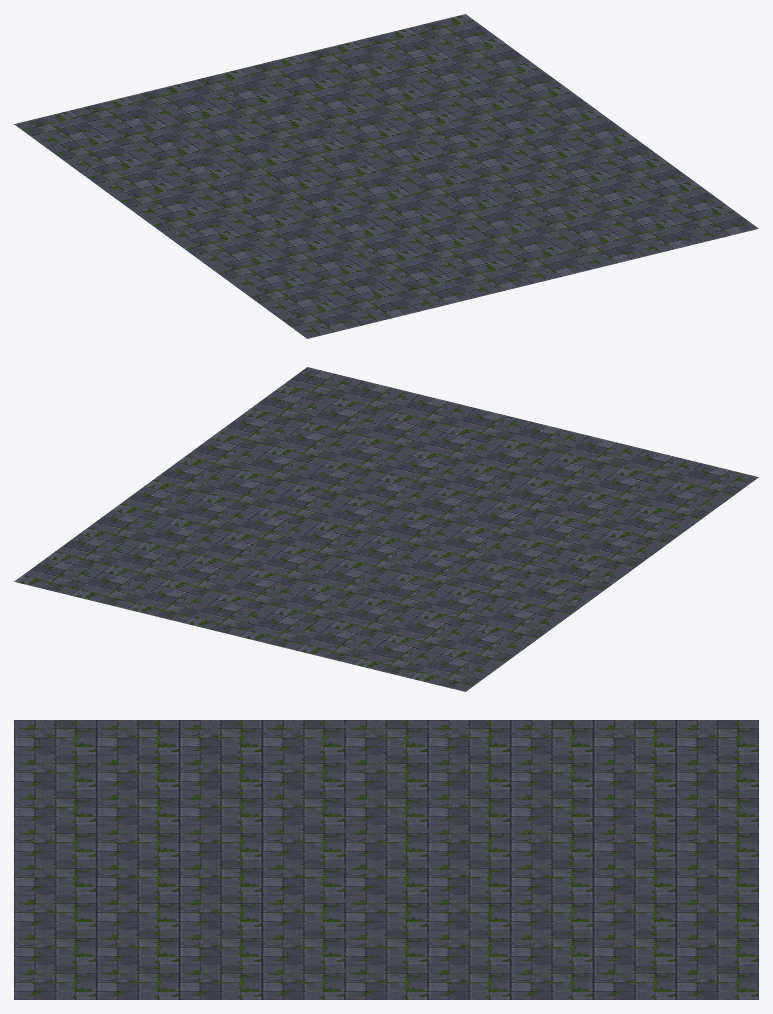
The model's file is Floor.gltf.
3 renders of one model, top to bottom at view 1: azimuth 30°, elevation 25°; view 2: azimuth 150°, elevation 25°; view 3: azimuth 270°, elevation 25°, orthographic. The views are drawn at different scales.
Visible parts, largest first — view 1: P_MOD_Floor_01_O_straight_med (19), P_MOD_Floor_01_O_straight_med (52), P_MOD_Floor_01_O_straight_med (25), P_MOD_Floor_01_O_straight_med (46), P_MOD_Floor_01_O_straight_med, P_MOD_Floor_01_O_straight_med (8), P_MOD_Floor_01_O_straight_med (11), P_MOD_Floor_01_O_straight_med (22), P_MOD_Floor_01_O_straight_med (24), P_MOD_Floor_01_O_straight_med (47), P_MOD_Floor_01_O_straight_med (59), P_MOD_Floor_01_O_straight_med (56) (+60 smaller); view 2: P_MOD_Floor_01_O_straight_med (20), P_MOD_Floor_01_O_straight_med (51), P_MOD_Floor_01_O_straight_med (30), P_MOD_Floor_01_O_straight_med (41), P_MOD_Floor_01_O_straight_med (12), P_MOD_Floor_01_O_straight_med (31), P_MOD_Floor_01_O_straight_med (54), P_MOD_Floor_01_O_straight_med (63), P_MOD_Floor_01_O_straight_med (60), P_MOD_Floor_01_O_straight_med (68), P_MOD_Floor_01_O_straight_med (64), P_MOD_Floor_01_O_straight_med (40) (+60 smaller); view 3: P_MOD_Floor_01_O_straight_med (8), P_MOD_Floor_01_O_straight_med (9), P_MOD_Floor_01_O_straight_med (10), P_MOD_Floor_01_O_straight_med (11), P_MOD_Floor_01_O_straight_med (12), P_MOD_Floor_01_O_straight_med (23), P_MOD_Floor_01_O_straight_med (22), P_MOD_Floor_01_O_straight_med (21), P_MOD_Floor_01_O_straight_med (20), P_MOD_Floor_01_O_straight_med (19), P_MOD_Floor_01_O_straight_med (18), P_MOD_Floor_01_O_straight_med (55) (+60 smaller).
Boxes of the visible parts, left/top/right/bottom form: P_MOD_Floor_01_O_straight_med (19): left=379, top=212, right=467, bottom=249; P_MOD_Floor_01_O_straight_med (52): left=305, top=103, right=393, bottom=140; P_MOD_Floor_01_O_straight_med (25): left=516, top=147, right=604, bottom=184; P_MOD_Floor_01_O_straight_med (46): left=168, top=168, right=256, bottom=205; P_MOD_Floor_01_O_straight_med: left=275, top=301, right=363, bottom=338; P_MOD_Floor_01_O_straight_med (8): left=242, top=277, right=330, bottom=314; P_MOD_Floor_01_O_straight_med (11): left=412, top=236, right=499, bottom=273; P_MOD_Floor_01_O_straight_med (22): left=548, top=171, right=636, bottom=208; P_MOD_Floor_01_O_straight_med (24): left=572, top=133, right=660, bottom=170; P_MOD_Floor_01_O_straight_med (47): left=112, top=182, right=200, bottom=219; P_MOD_Floor_01_O_straight_med (59): left=273, top=79, right=360, bottom=116; P_MOD_Floor_01_O_straight_med (56): left=442, top=38, right=530, bottom=75; P_MOD_Floor_01_O_straight_med (20): left=379, top=456, right=467, bottom=493; P_MOD_Floor_01_O_straight_med (51): left=305, top=565, right=393, bottom=602; P_MOD_Floor_01_O_straight_med (30): left=516, top=521, right=604, bottom=558; P_MOD_Floor_01_O_straight_med (41): left=168, top=500, right=256, bottom=537; P_MOD_Floor_01_O_straight_med (12): left=412, top=432, right=499, bottom=469; P_MOD_Floor_01_O_straight_med (31): left=572, top=535, right=660, bottom=572; P_MOD_Floor_01_O_straight_med (54): left=136, top=524, right=224, bottom=561; P_MOD_Floor_01_O_straight_med (63): left=442, top=630, right=530, bottom=667; P_MOD_Floor_01_O_straight_med (60): left=273, top=589, right=360, bottom=626; P_MOD_Floor_01_O_straight_med (68): left=184, top=599, right=271, bottom=636; P_MOD_Floor_01_O_straight_med (64): left=409, top=654, right=497, bottom=691; P_MOD_Floor_01_O_straight_med (40): left=112, top=486, right=200, bottom=523; P_MOD_Floor_01_O_straight_med (8): left=96, top=720, right=179, bottom=754; P_MOD_Floor_01_O_straight_med (9): left=96, top=755, right=179, bottom=789; P_MOD_Floor_01_O_straight_med (10): left=96, top=790, right=179, bottom=824; P_MOD_Floor_01_O_straight_med (11): left=96, top=825, right=179, bottom=859; P_MOD_Floor_01_O_straight_med (12): left=96, top=860, right=179, bottom=894; P_MOD_Floor_01_O_straight_med (23): left=179, top=965, right=262, bottom=999; P_MOD_Floor_01_O_straight_med (22): left=179, top=930, right=262, bottom=964; P_MOD_Floor_01_O_straight_med (21): left=179, top=895, right=262, bottom=929; P_MOD_Floor_01_O_straight_med (20): left=179, top=860, right=262, bottom=894; P_MOD_Floor_01_O_straight_med (19): left=179, top=825, right=262, bottom=859; P_MOD_Floor_01_O_straight_med (18): left=179, top=790, right=262, bottom=824; P_MOD_Floor_01_O_straight_med (55): left=510, top=965, right=593, bottom=999.
Size of the model in its own units: 32 by 0 by 36.
Materials: 1 (1 with a texture image).
